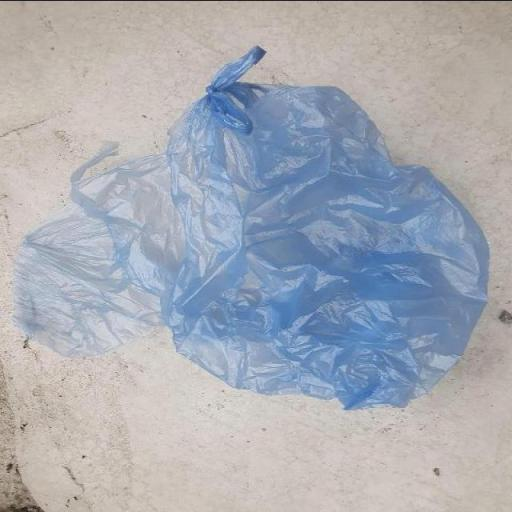plastic-bag: (14, 44, 496, 414)
